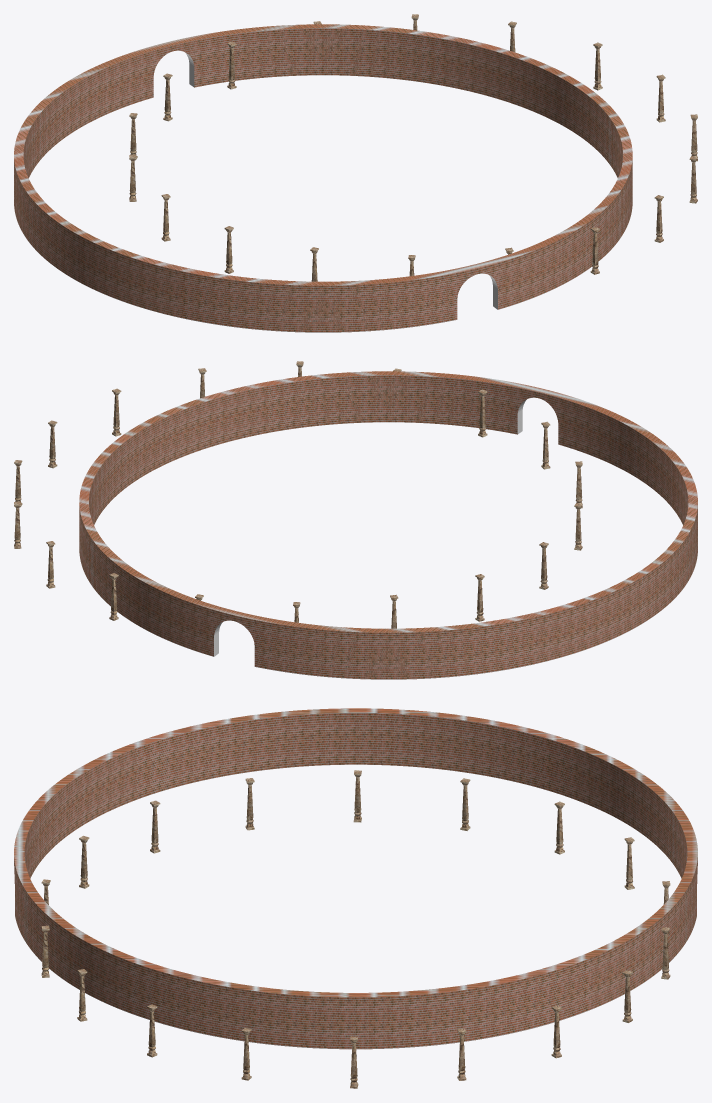
File: fence.fbx
3 views of the same model, one above another, from view 1: azimuth 30°, elevation 25°; view 2: azimuth 150°, elevation 25°; view 3: azimuth 270°, elevation 25° (orthographic). The views are drawn at different scales.
Parts seen in each view (by area): view 1: Tube; view 2: Tube; view 3: Tube.
Part boxes in pixels (x1,y1,x2,y2): Tube: [14, 24, 632, 332]; Tube: [79, 371, 697, 679]; Tube: [14, 708, 697, 1049].
Size of the model in its own units: 5766 by 429 by 5081.
2 materials, 2 textured.
